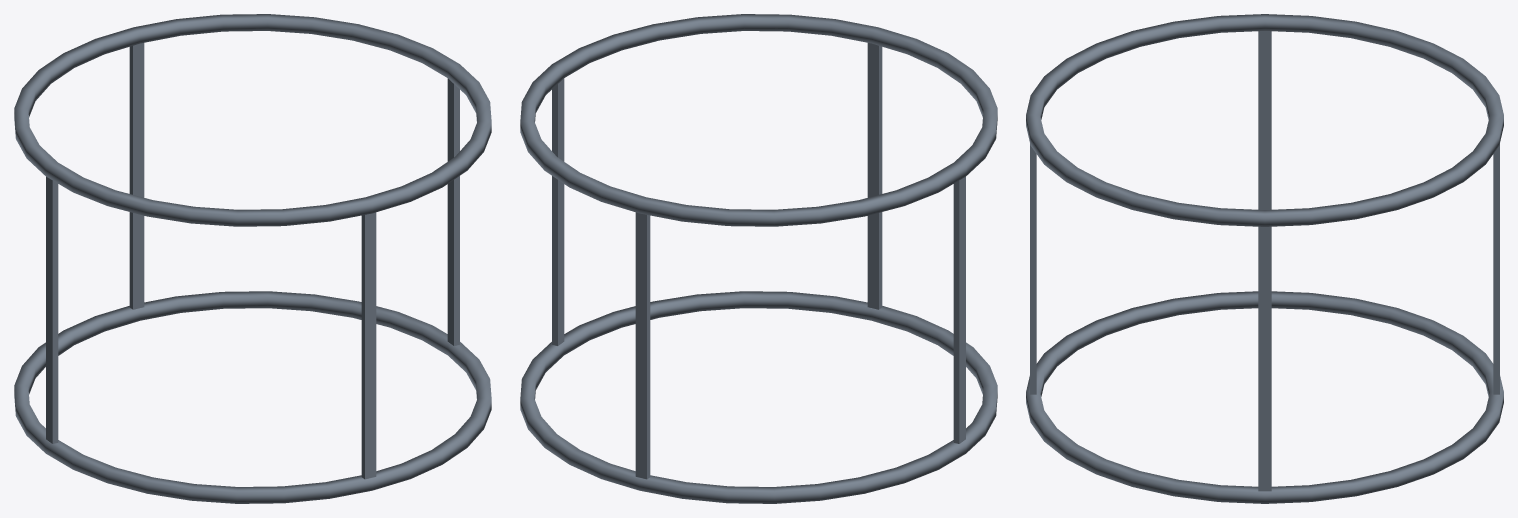
The model's file is ClothingRack_circle.fbx.
3 renders of one model, left to right at view 1: azimuth 30°, elevation 25°; view 2: azimuth 150°, elevation 25°; view 3: azimuth 270°, elevation 25°, orthographic.
Parts seen in each view (by area): view 1: ClothingRack_circle; view 2: ClothingRack_circle; view 3: ClothingRack_circle.
Boxes of the visible parts, x1,y1,x2,y2 form: ClothingRack_circle: [14, 14, 491, 503]; ClothingRack_circle: [520, 14, 997, 503]; ClothingRack_circle: [1026, 14, 1503, 503].
Bounding box in the file's own units: 590 × 392 × 590.
